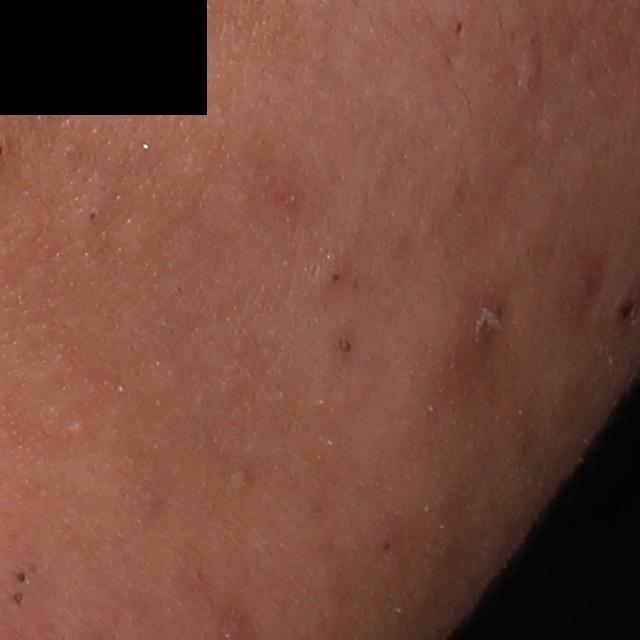comedo: (331, 326, 357, 359), (230, 464, 256, 496), (325, 265, 345, 292), (85, 203, 103, 228), (451, 20, 466, 45), (12, 569, 27, 586), (10, 594, 23, 608)
